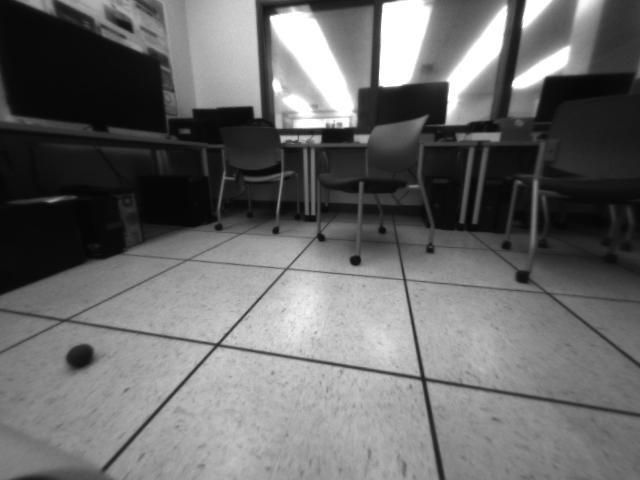dogtoy: (55, 338, 103, 375)
